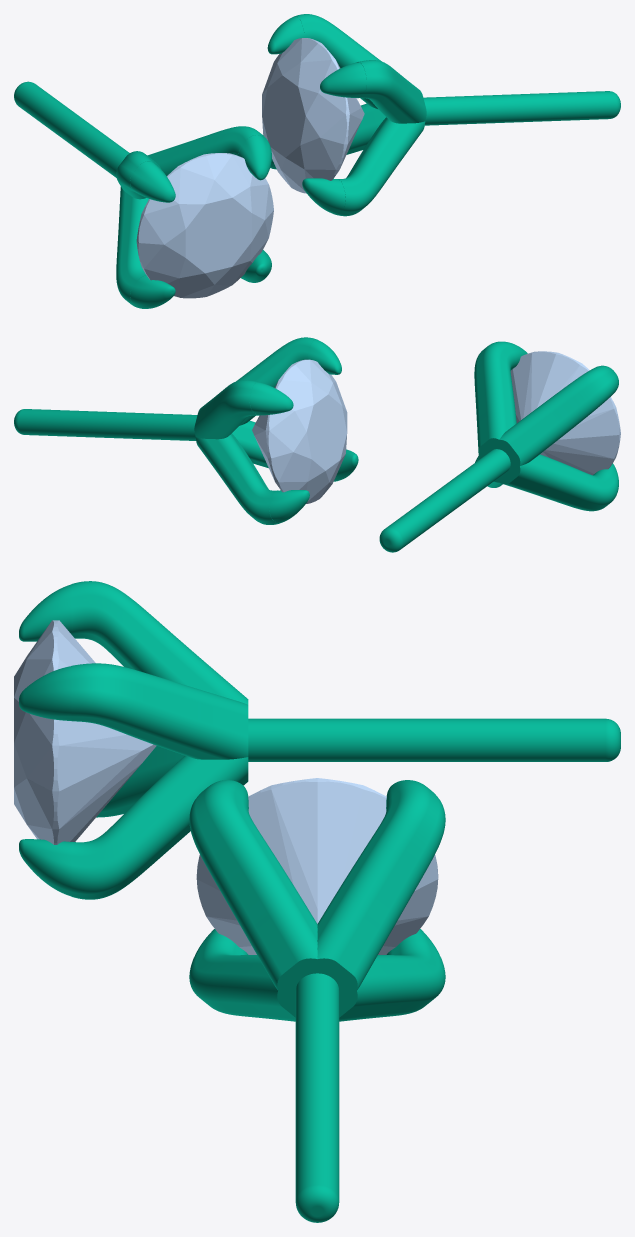
3 views of the same model, one above another, from view 1: azimuth 30°, elevation 25°; view 2: azimuth 150°, elevation 25°; view 3: azimuth 270°, elevation 25° (orthographic). The views are drawn at different scales.
Parts seen in each view (by area): view 1: VEAR721.3dm, Diamond_Round (×2); view 2: VEAR721.3dm, Diamond_Round (×2); view 3: VEAR721.3dm, Diamond_Round (×2).
Boxes of the visible parts, box(x1,y1,x2,y2) form: VEAR721.3dm: box(14, 14, 620, 308); Diamond_Round (×2): box(136, 38, 364, 298); VEAR721.3dm: box(14, 337, 618, 552); Diamond_Round (×2): box(252, 351, 620, 503); VEAR721.3dm: box(19, 581, 620, 1222); Diamond_Round (×2): box(14, 620, 438, 954).
Bounding box in the file's own units: 3.36 × 0.8507 × 2.
